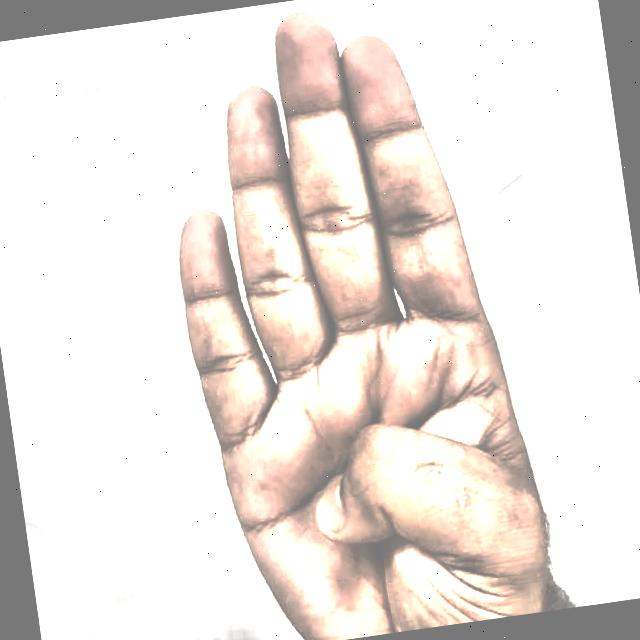Ba: (117, 0, 582, 640)
